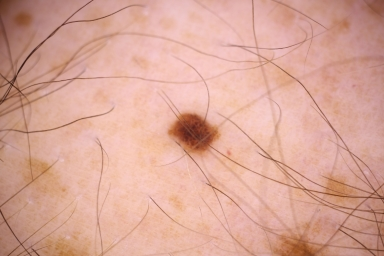melanoma: (167, 112, 220, 149), (277, 235, 316, 254)
